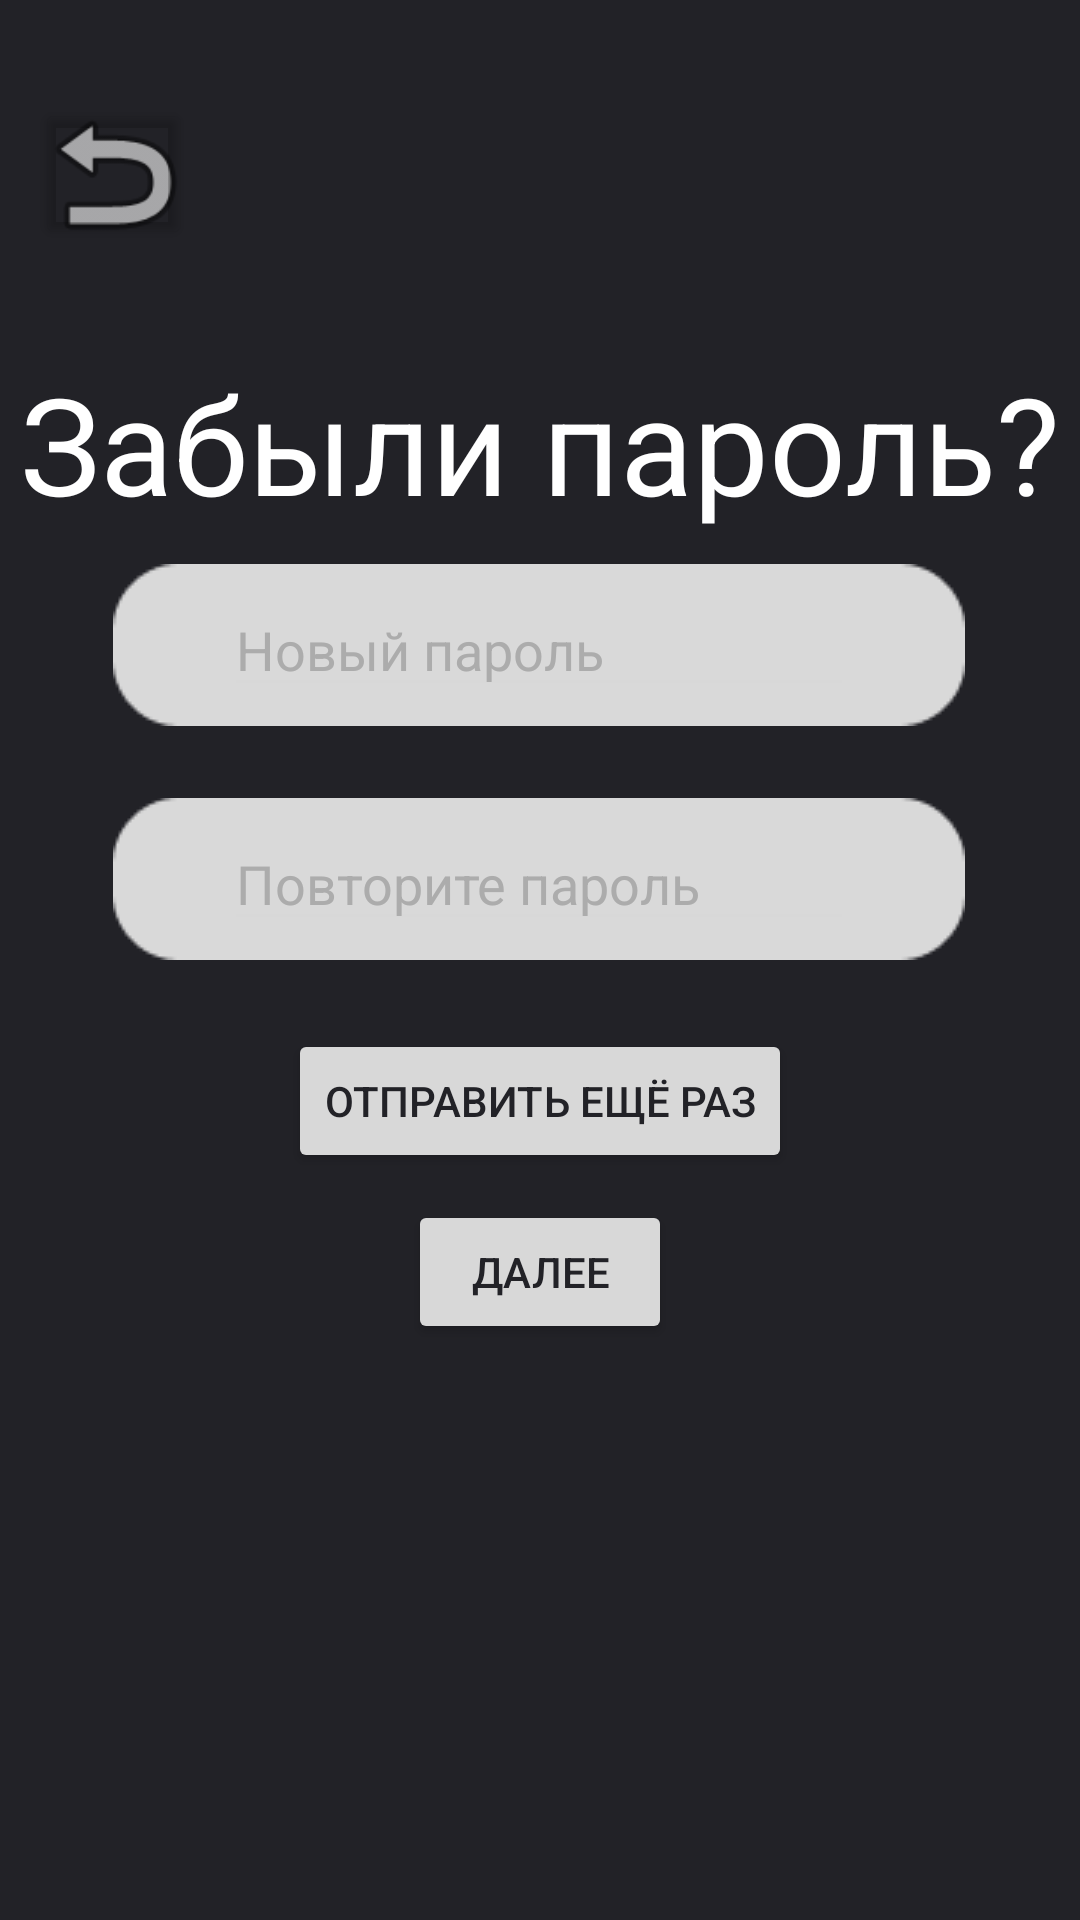

Icons on this 1080x1920 Android screen, each with its box as (x1, y1, x2, y2):
revert: (61, 126, 171, 225)
